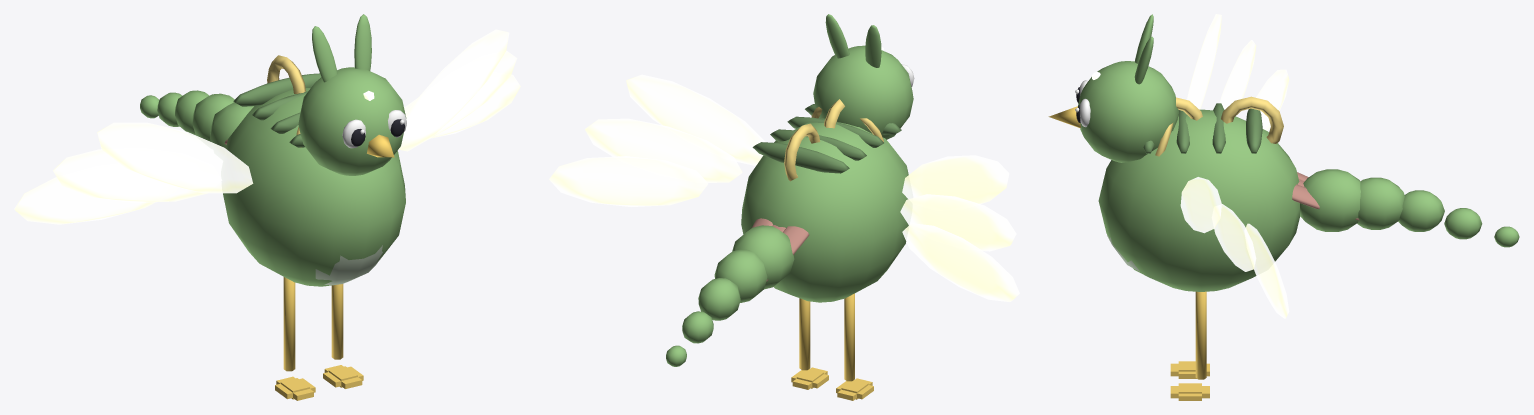
Rendered from forest_penguin_08.glb.
3 views of the same model, side by side, from view 1: azimuth 30°, elevation 25°; view 2: azimuth 150°, elevation 25°; view 3: azimuth 270°, elevation 25° (orthographic). The views are drawn at different scales.
Visible parts, largest first — view 1: ball; view 2: ball; view 3: ball.
Boxes of the visible parts, <box> form: ball: <box>14,14,520,400</box>; ball: <box>549,14,1019,400</box>; ball: <box>1048,14,1519,400</box>.
Size of the model in its own units: 2.52 by 1.82 by 2.16.
